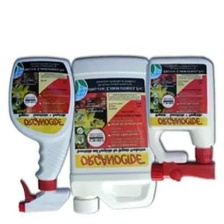insecticide: (65, 52, 158, 215), (6, 54, 76, 214), (141, 52, 220, 183)
